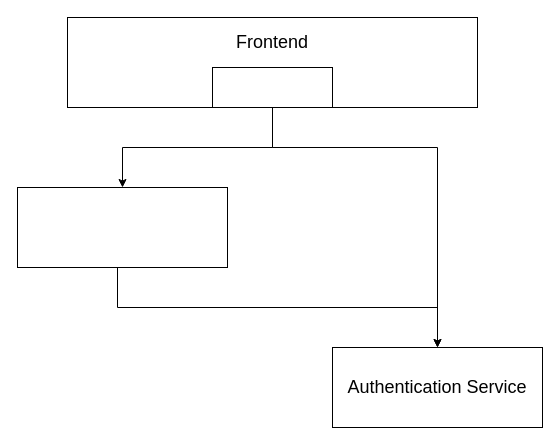
The diagram is 560 pixels wide and 445 high, and some of its shapes have lost their labels. Here are the shapes that lost their labels. From the top down, the box of each, then its label:
(212, 66, 332, 108): Server
(16, 186, 228, 268): ToDo Service
